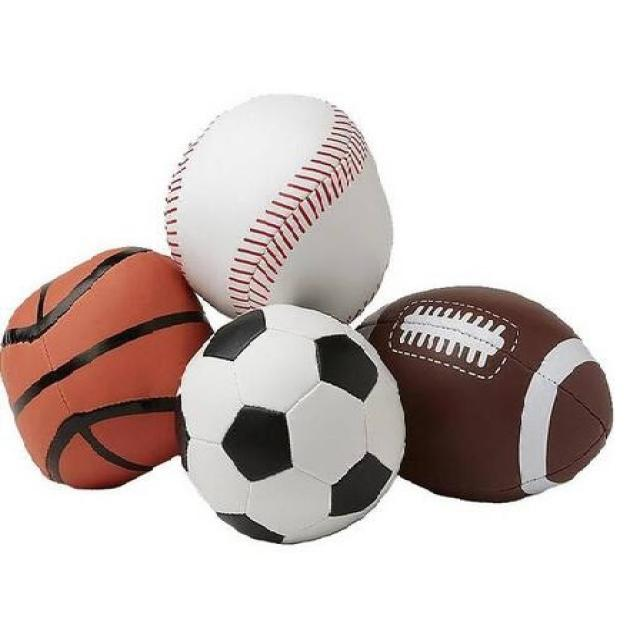ball: (175, 303, 405, 548), (164, 94, 390, 309), (393, 285, 612, 503), (3, 244, 179, 486)
